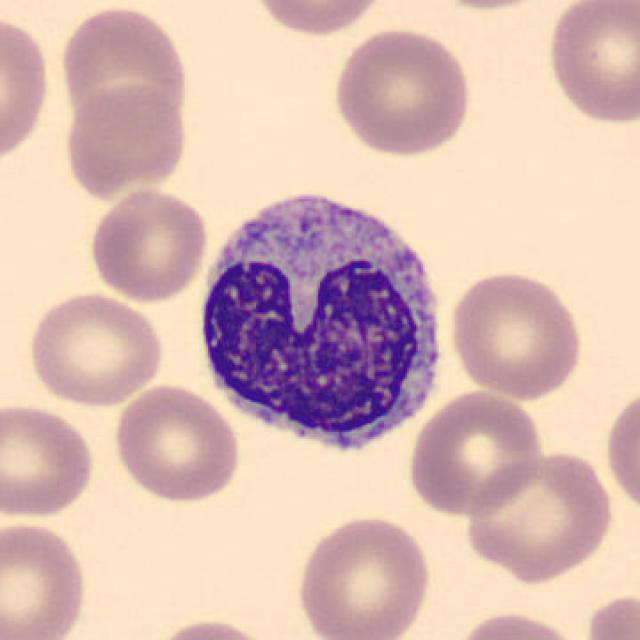Monocyte: (189, 178, 455, 469)
RBC: (462, 448, 617, 584), (329, 24, 475, 158), (446, 266, 587, 402), (406, 386, 548, 518), (55, 2, 194, 136), (293, 511, 434, 640), (23, 287, 167, 409), (110, 381, 244, 504), (60, 81, 192, 201), (86, 185, 212, 305), (542, 0, 640, 129), (0, 398, 100, 522), (0, 518, 91, 640), (0, 11, 55, 169), (243, 0, 393, 39), (602, 380, 640, 520), (450, 608, 588, 640), (144, 613, 281, 640), (582, 589, 638, 640), (416, 0, 562, 14)
